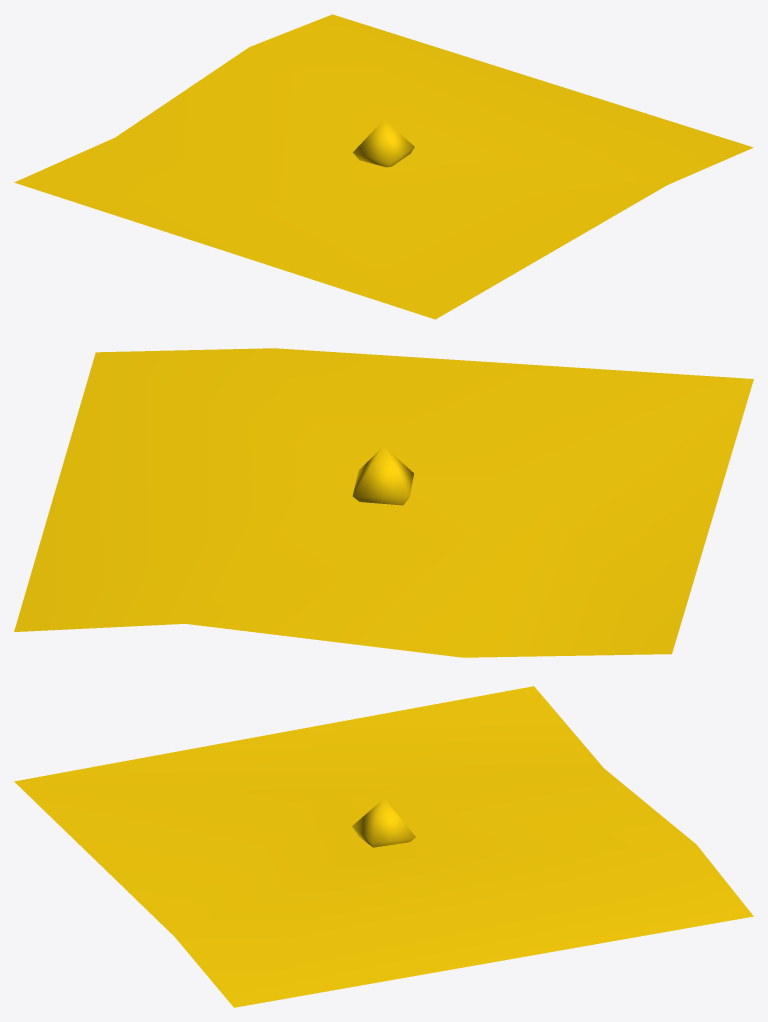
File: penalty_flag_lod2.glb
3 renders of one model, top to bottom at view 1: azimuth 30°, elevation 25°; view 2: azimuth 150°, elevation 25°; view 3: azimuth 270°, elevation 25°, orthographic. The views are drawn at different scales.
Parts seen in each view (by area): view 1: penalty_flag__prop_yellow; view 2: penalty_flag__prop_yellow; view 3: penalty_flag__prop_yellow.
Boxes of the visible parts, bbox=[...] form: penalty_flag__prop_yellow: bbox=[14, 14, 753, 319]; penalty_flag__prop_yellow: bbox=[14, 348, 753, 657]; penalty_flag__prop_yellow: bbox=[14, 686, 753, 1007].
Size of the model in its own units: 0.5243 by 0.0501 by 0.5245.
